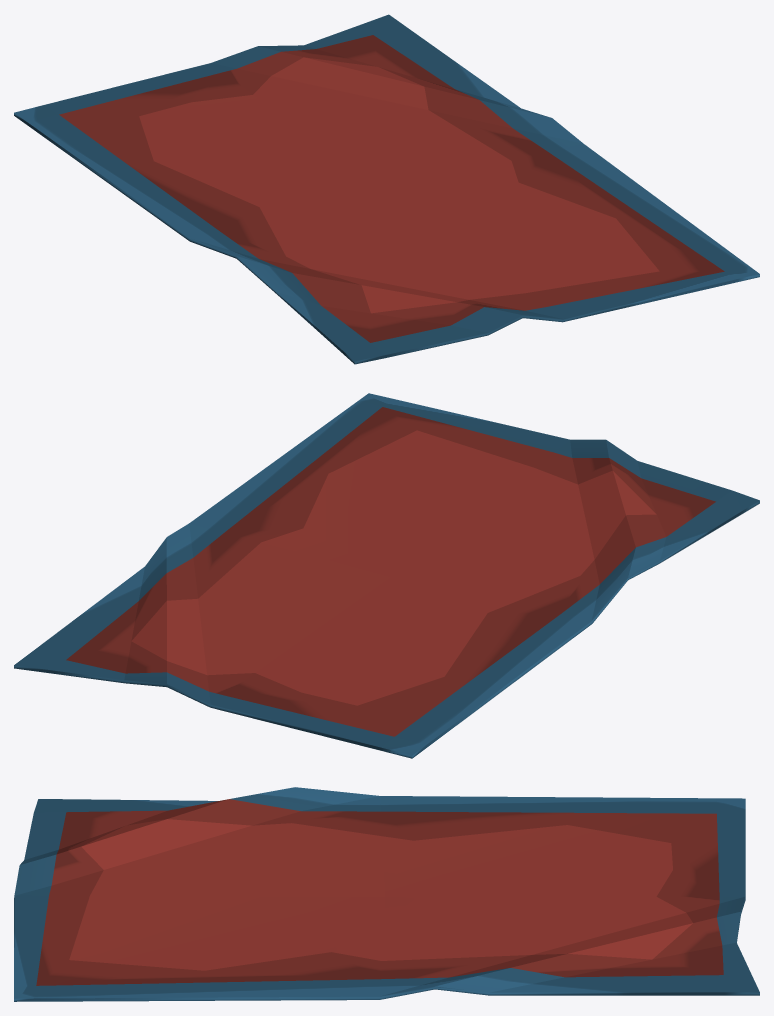
File: SM_Prop_Rug_02.fbx
3 views of the same model, one above another, from view 1: azimuth 30°, elevation 25°; view 2: azimuth 150°, elevation 25°; view 3: azimuth 270°, elevation 25° (orthographic). The views are drawn at different scales.
Visible parts, largest first — view 1: SM_Prop_Rug_02; view 2: SM_Prop_Rug_02; view 3: SM_Prop_Rug_02.
Part boxes in pixels (left/top/right/bottom): SM_Prop_Rug_02: left=14, top=14, right=759, bottom=364; SM_Prop_Rug_02: left=14, top=393, right=759, bottom=758; SM_Prop_Rug_02: left=14, top=787, right=759, bottom=1001.
Bounding box in the file's own units: 155 × 6.49 × 245.
